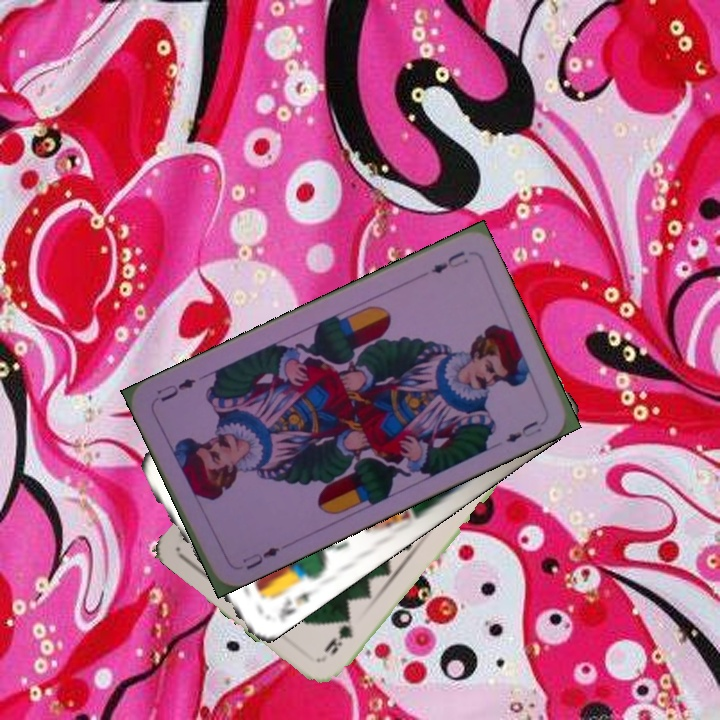EK: (274, 584, 319, 620)
EU: (238, 541, 288, 573), (427, 247, 471, 276)
G9: (320, 612, 356, 657)
